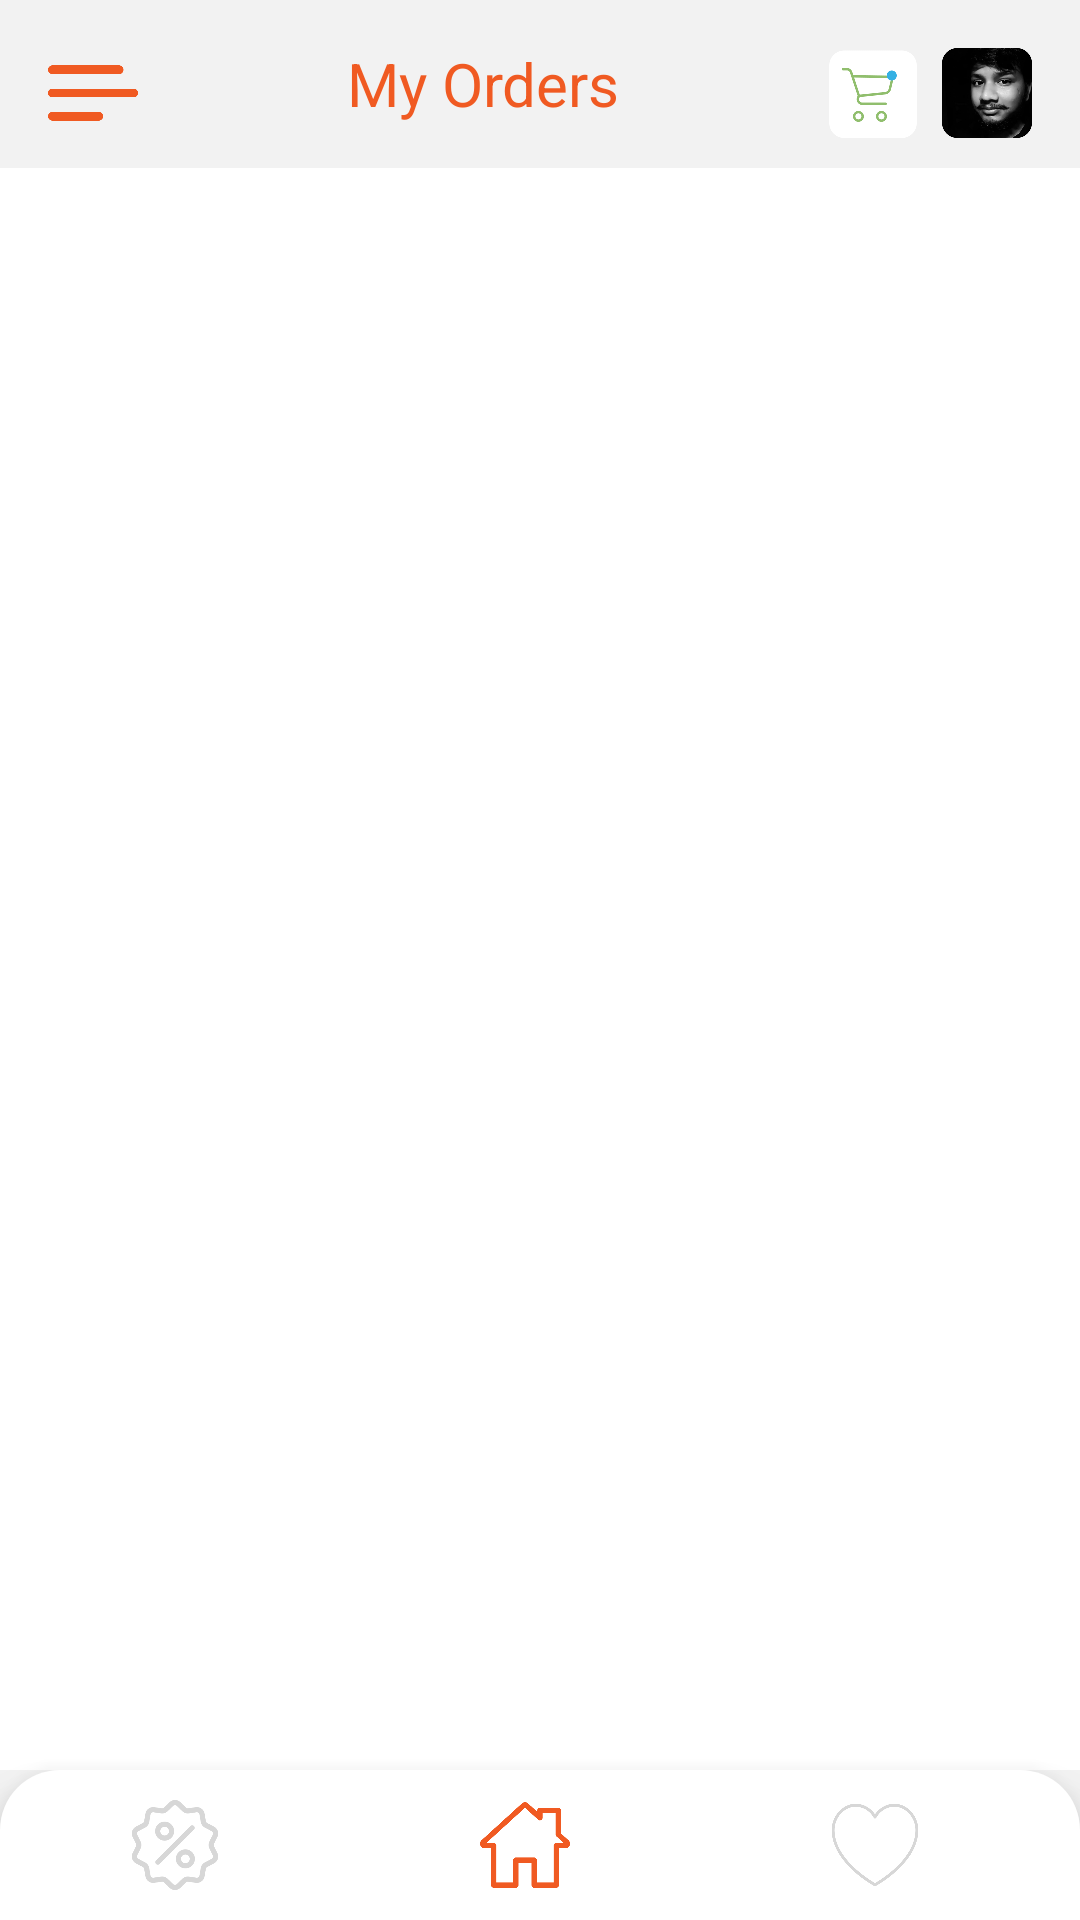

Screen size 1080×1920. Icon name, then its center in pixels as [x,y]:
heart: [875,1845]
home one: [525,1845]
